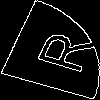R: (25, 25, 96, 76)
